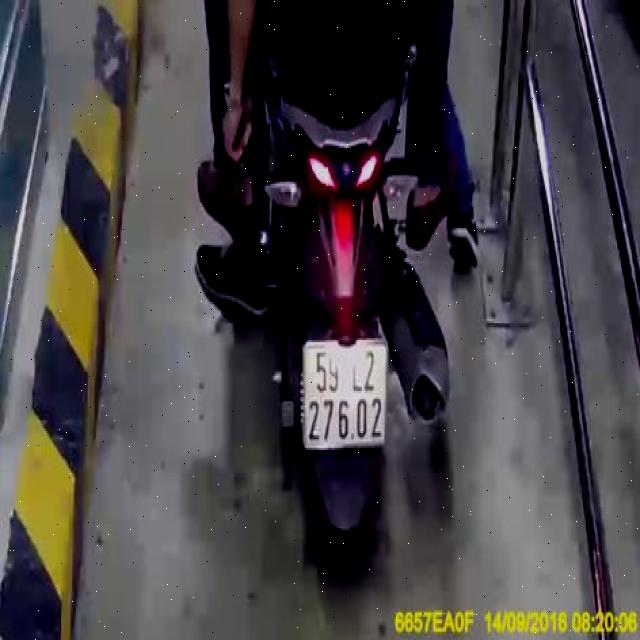0: (356, 396, 368, 440)
2: (307, 400, 321, 440), (372, 395, 384, 439)
5: (316, 351, 327, 393)
6: (337, 400, 350, 440)
7: (323, 398, 334, 442)
9: (327, 350, 340, 392)
L: (364, 350, 376, 394), (352, 352, 362, 393)
